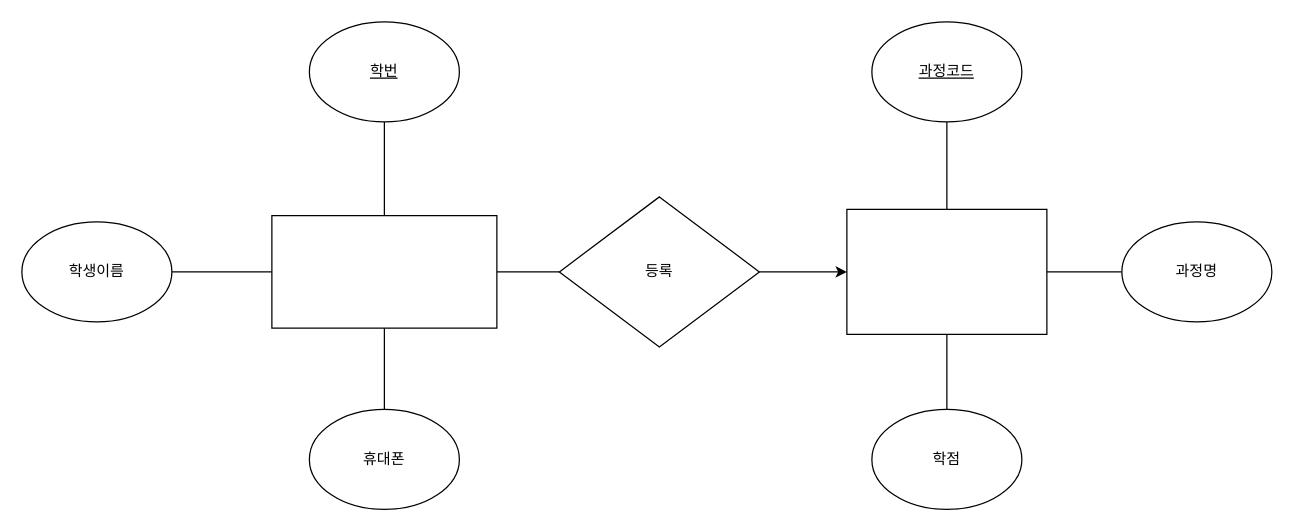
The diagram is 1294 pixels wide and 531 high, and some of its shapes have lost their labels. The box of each missing label's shape, as (x1, y1, x2, y2) in pixels:
과정: (846, 208, 1047, 334)
학생: (271, 214, 497, 328)
